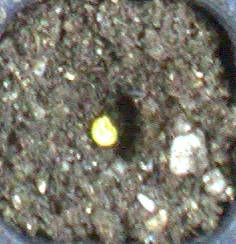chilli seed: (91, 115, 117, 147)
